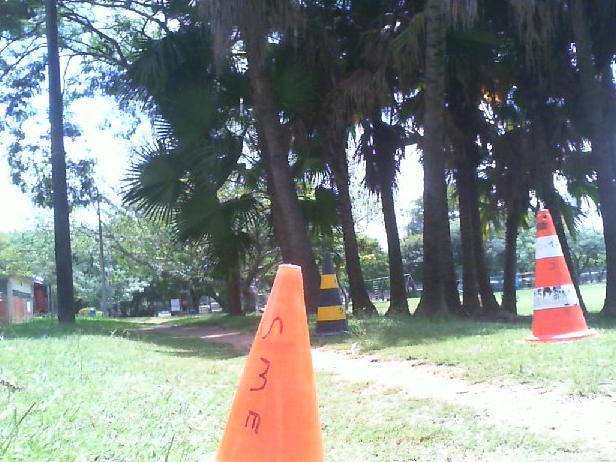0 cone: (200, 264, 335, 462), (524, 209, 596, 343), (311, 253, 354, 336)
